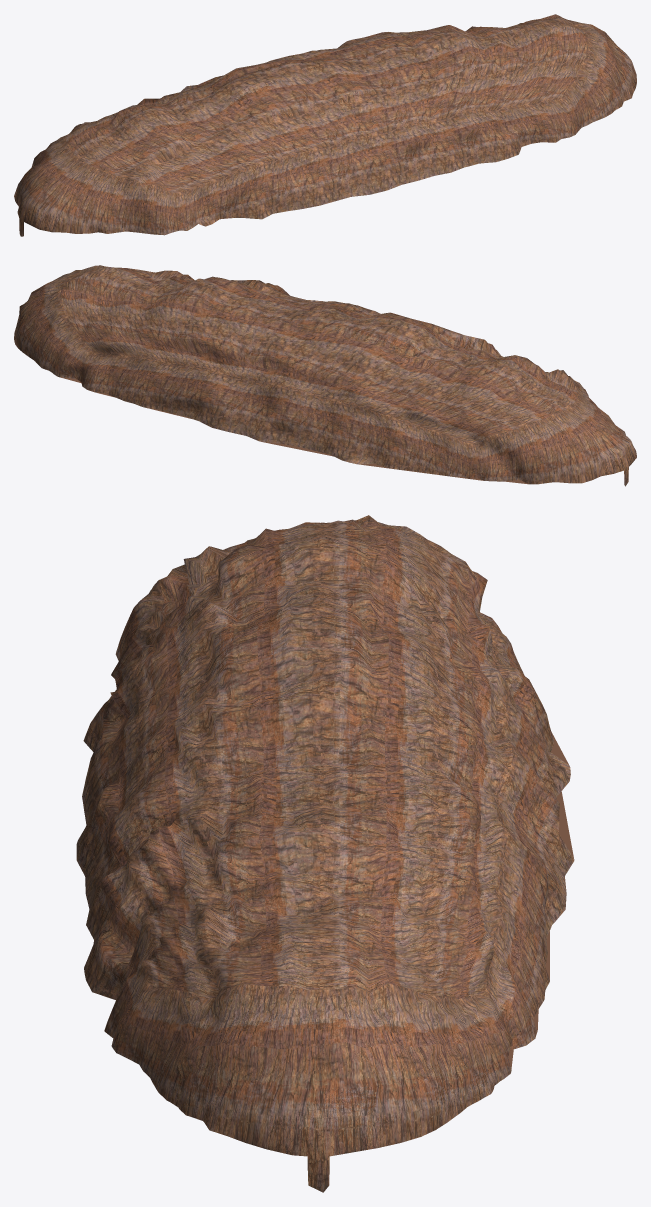
File: mountain4.fbx
The picture shows the model from 3 angles, top to bottom: view 1: azimuth 30°, elevation 25°; view 2: azimuth 150°, elevation 25°; view 3: azimuth 270°, elevation 25°; orthographic projection. The views are drawn at different scales.
Parts seen in each view (by area): view 1: mountain; view 2: mountain; view 3: mountain.
Part boxes in pixels (x1,y1,x2,y2): mountain: [14, 14, 636, 236]; mountain: [14, 265, 636, 486]; mountain: [76, 515, 574, 1192].
Bounding box in the file's own units: 401 × 65.93 × 142.
